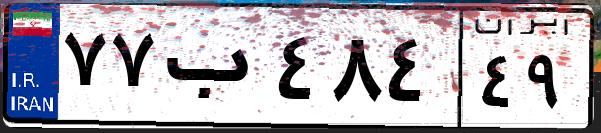4: (270, 28, 330, 110), (385, 28, 445, 110), (475, 38, 525, 113)
7: (57, 26, 110, 100), (110, 28, 158, 98)
8: (330, 28, 385, 110)
9: (525, 38, 570, 115)
ب: (158, 20, 270, 120)
